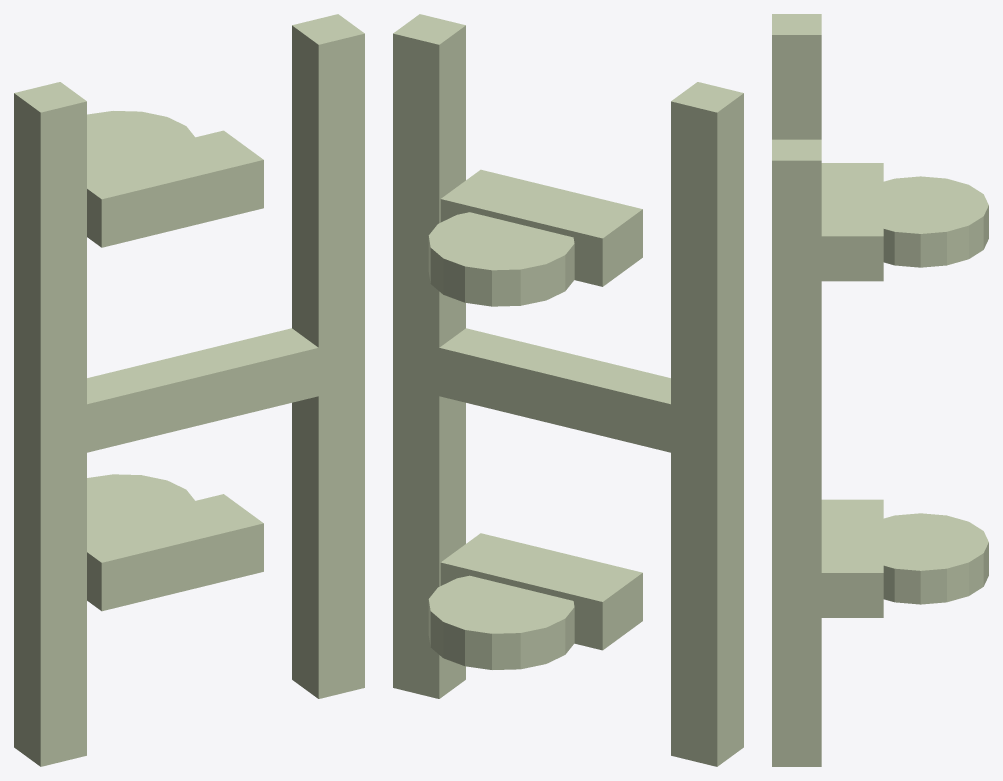
Rendered from furniture_sign_band_clamp_pair.glb.
3 renders of one model, left to right at view 1: azimuth 30°, elevation 25°; view 2: azimuth 150°, elevation 25°; view 3: azimuth 270°, elevation 25°, orthographic. The views are drawn at different scales.
Parts seen in each view (by area): view 1: channel_left, channel_right, cross_tie, standoff_upper, standoff_lower, lower_band, upper_band; view 2: channel_left, channel_right, cross_tie, upper_band, lower_band, standoff_upper, standoff_lower; view 3: channel_right, lower_band, upper_band, standoff_lower, standoff_upper, channel_left.
Boxes of the visible parts, x1=… form: channel_left: x1=14, y1=82, x2=86, y2=766; channel_right: x1=292, y1=14, x2=364, y2=698; cross_tie: x1=52, y1=328, x2=353, y2=458; standoff_upper: x1=87, y1=130, x2=263, y2=247; standoff_lower: x1=87, y1=494, x2=263, y2=611; lower_band: x1=87, y1=474, x2=194, y2=527; upper_band: x1=87, y1=111, x2=194, y2=163; channel_left: x1=671, y1=82, x2=743, y2=766; channel_right: x1=393, y1=14, x2=465, y2=698; cross_tie: x1=405, y1=328, x2=705, y2=460; upper_band: x1=428, y1=212, x2=574, y2=306; lower_band: x1=428, y1=575, x2=574, y2=669; standoff_upper: x1=440, y1=169, x2=642, y2=286; standoff_lower: x1=440, y1=533, x2=642, y2=650; channel_right: x1=772, y1=139, x2=821, y2=766; lower_band: x1=883, y1=513, x2=988, y2=604; upper_band: x1=883, y1=176, x2=988, y2=267; standoff_lower: x1=821, y1=499, x2=883, y2=617; standoff_upper: x1=821, y1=163, x2=883, y2=281; channel_left: x1=772, y1=14, x2=821, y2=139.
Bounding box in the file's own units: 0.28 × 0.54 × 0.175.
